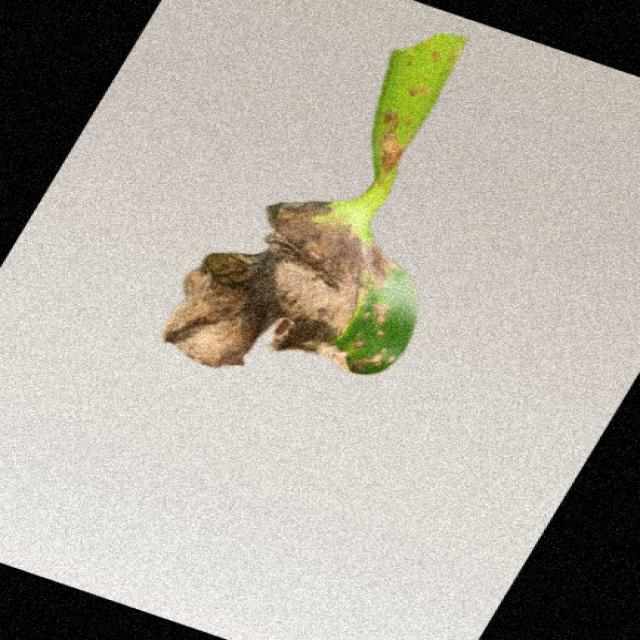daun berpenyakit karat: (164, 34, 467, 374)
